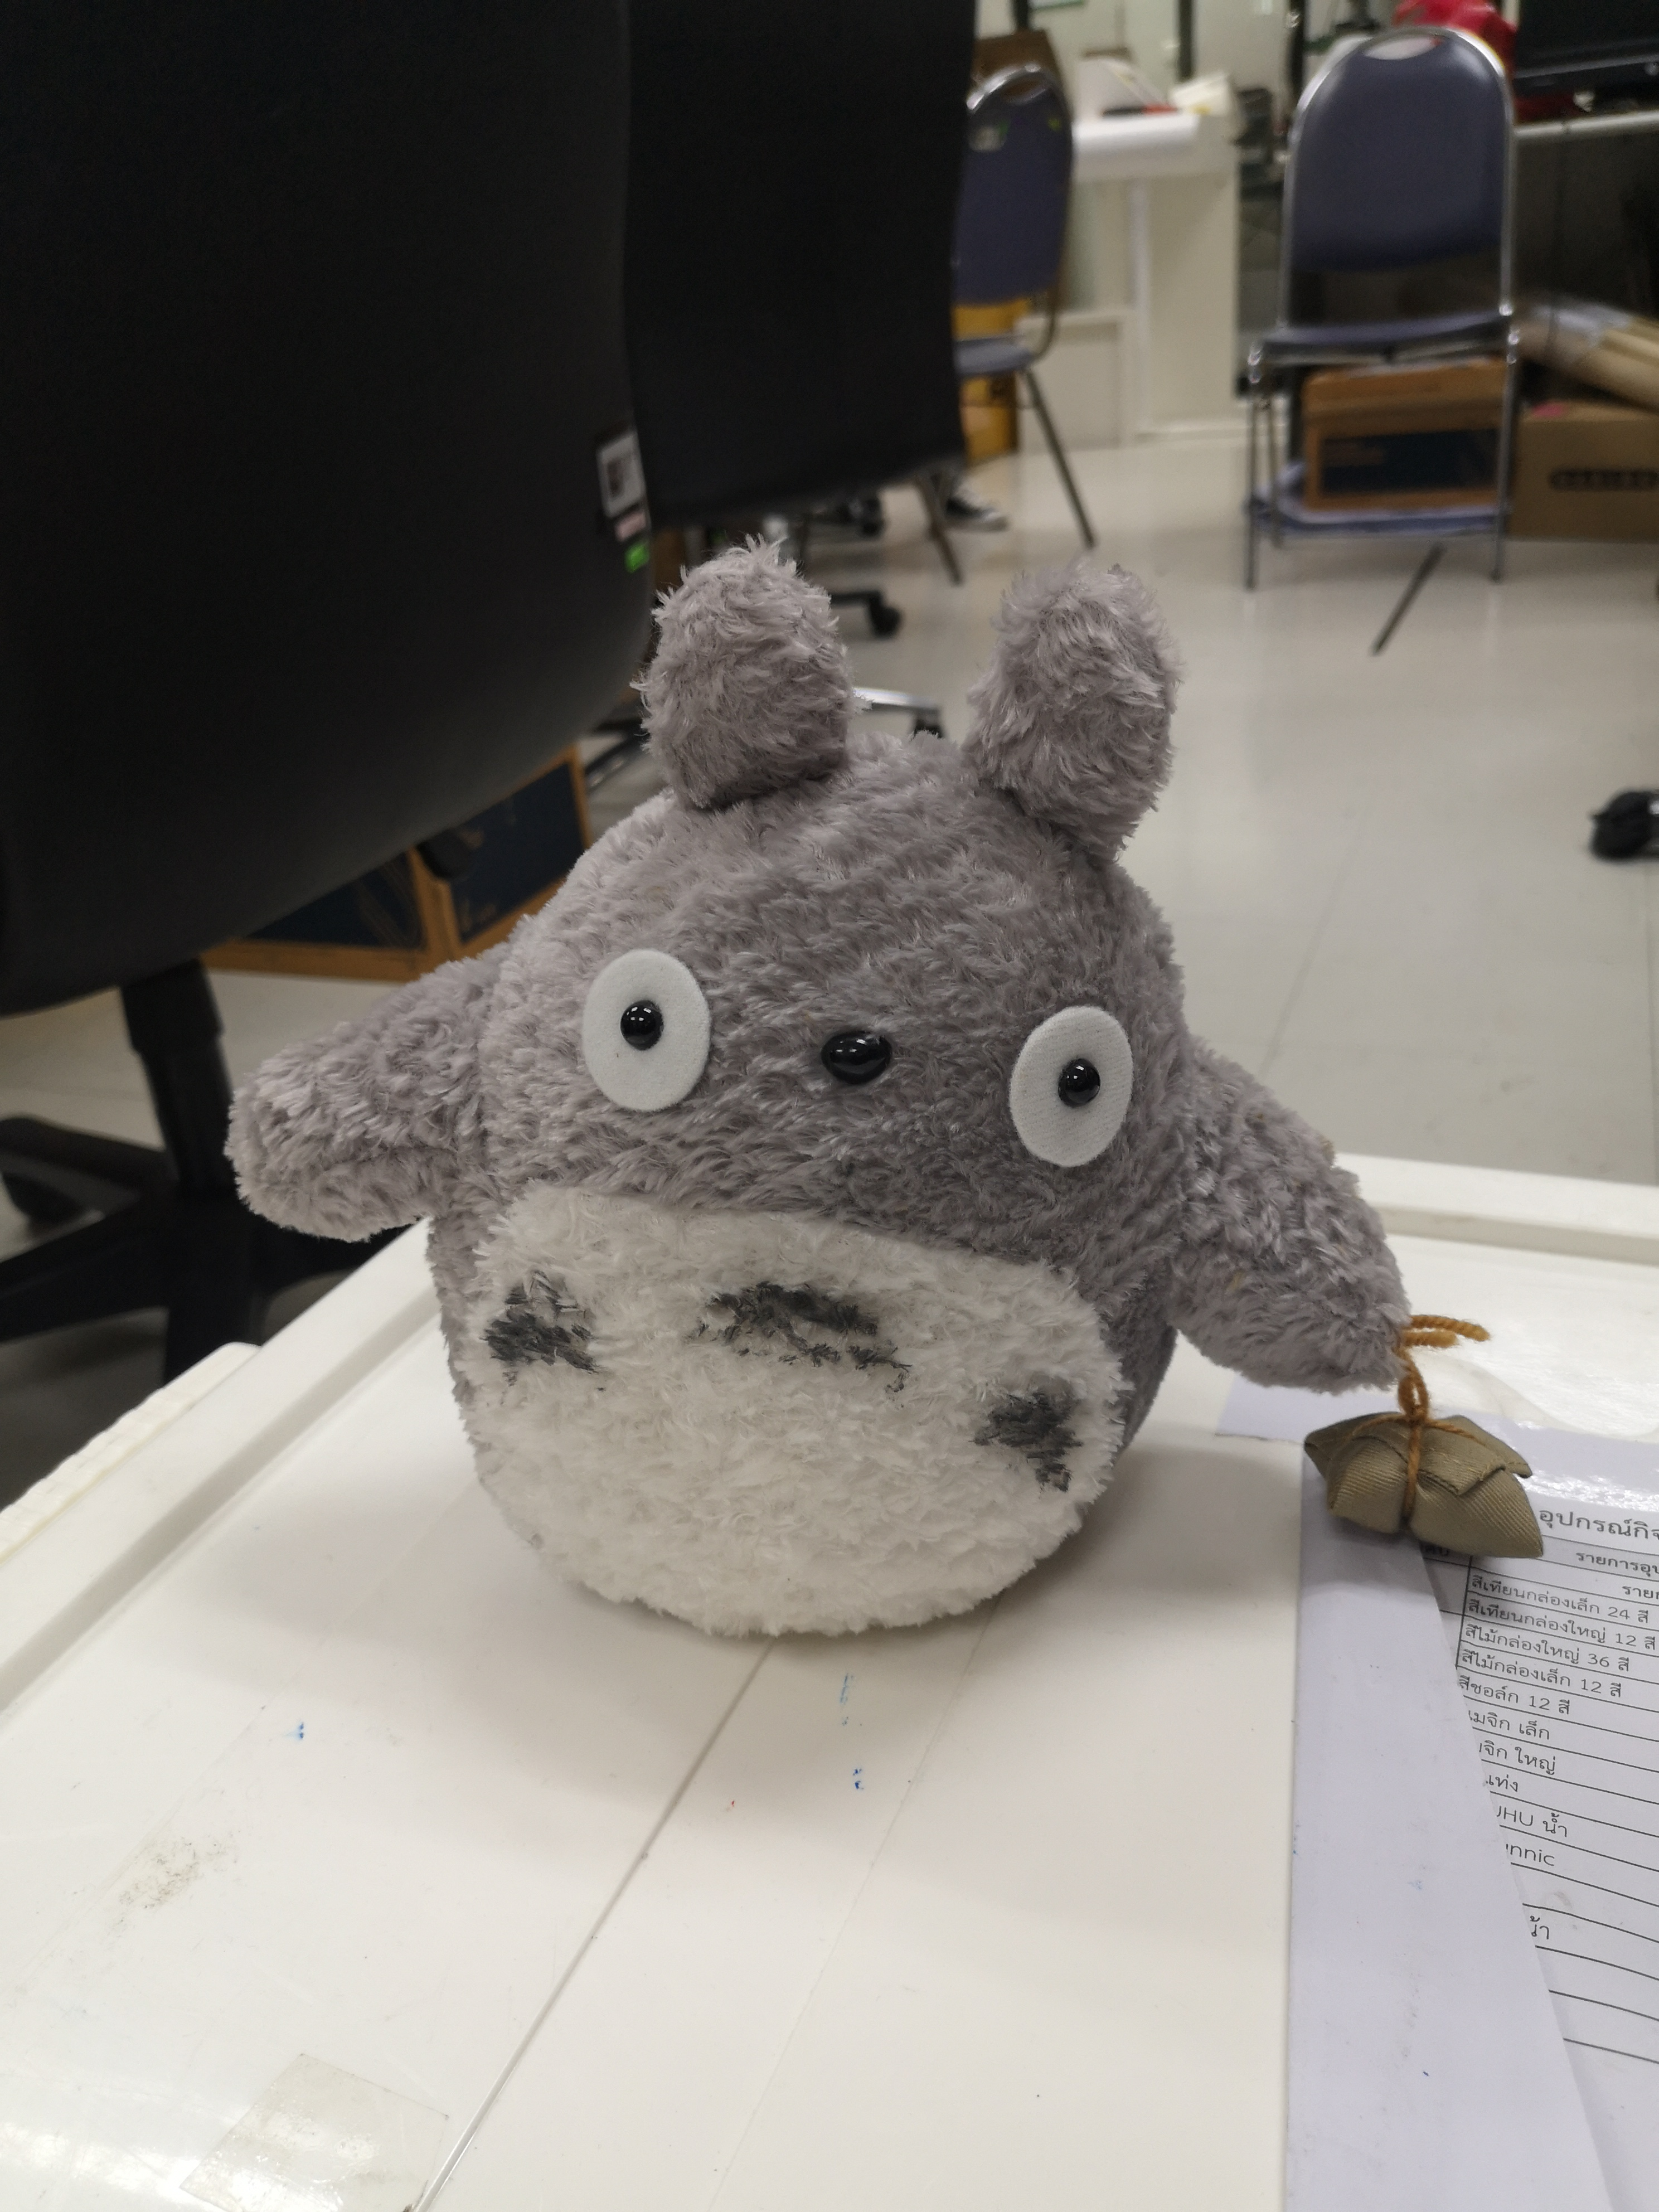totoro: (211, 502, 1551, 1669)
